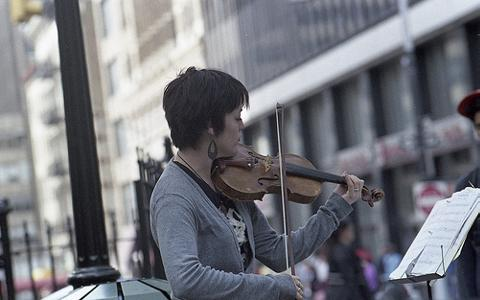person: (150, 71, 365, 300)
